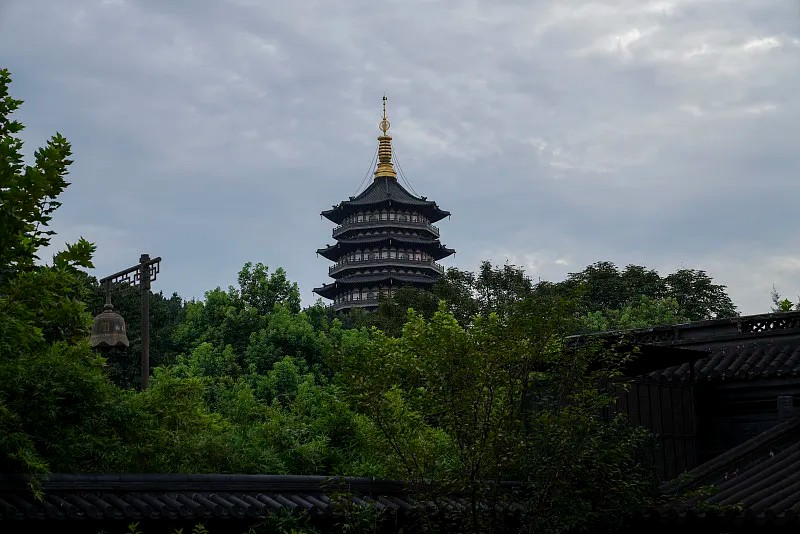Leifeng: (319, 92, 454, 325)
